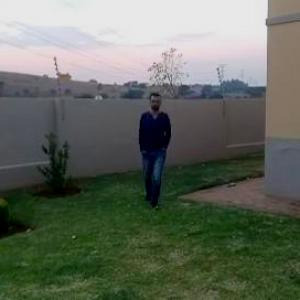follow: (139, 89, 178, 204)
